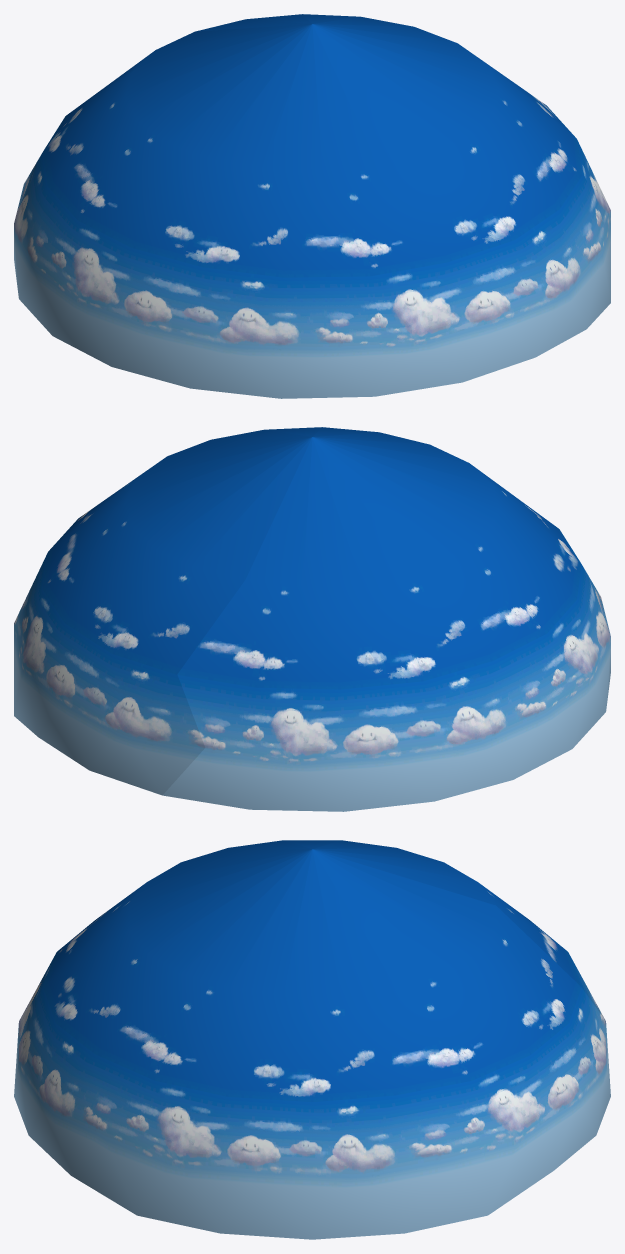
The model's file is diddy_course_L.dae.
3 renders of one model, top to bottom at view 1: azimuth 30°, elevation 25°; view 2: azimuth 150°, elevation 25°; view 3: azimuth 270°, elevation 25°, orthographic.
Parts seen in each view (by area): view 1: n9b1; view 2: n9b1; view 3: n9b1.
Part boxes in pixels (<box>): n9b1: <box>14,14,610,398</box>; n9b1: <box>14,427,610,811</box>; n9b1: <box>14,840,610,1239</box>.
Bounding box in the file's own units: 135800 × 66347 × 135800.
